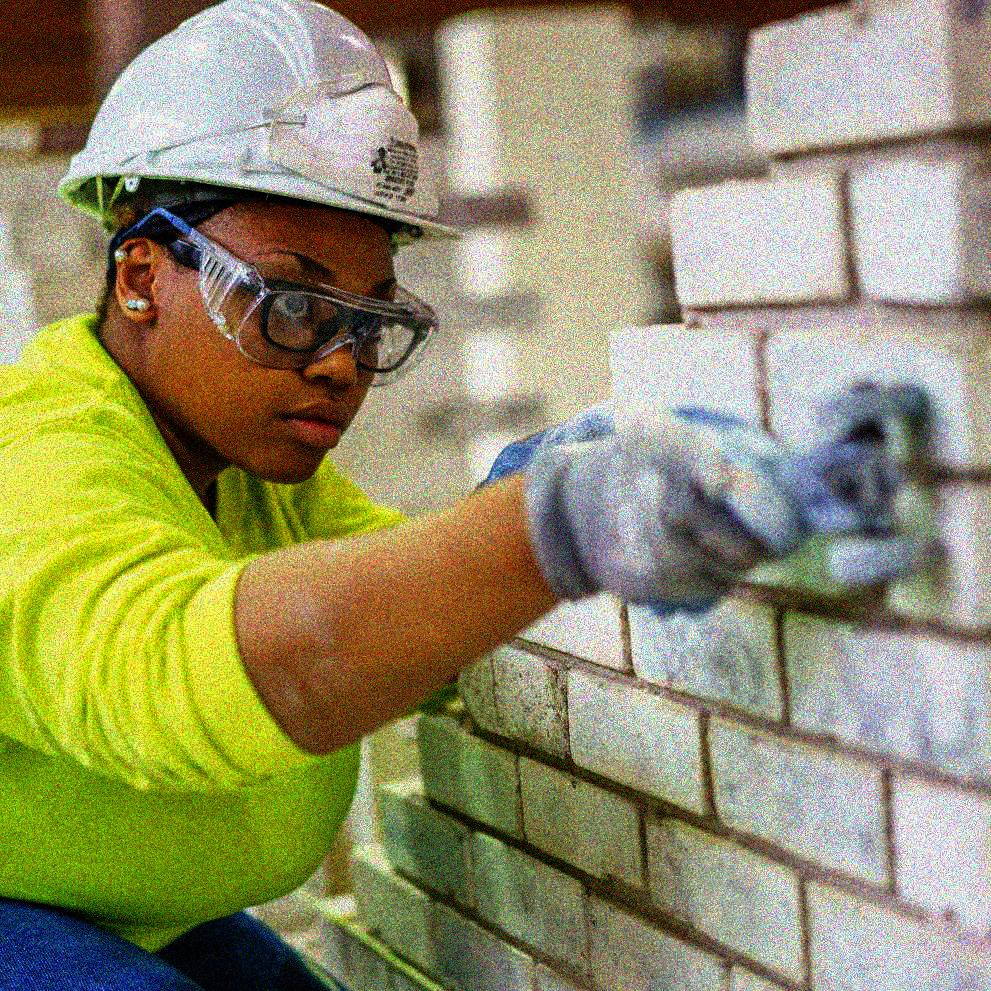helmet: (48, 1, 466, 489)
